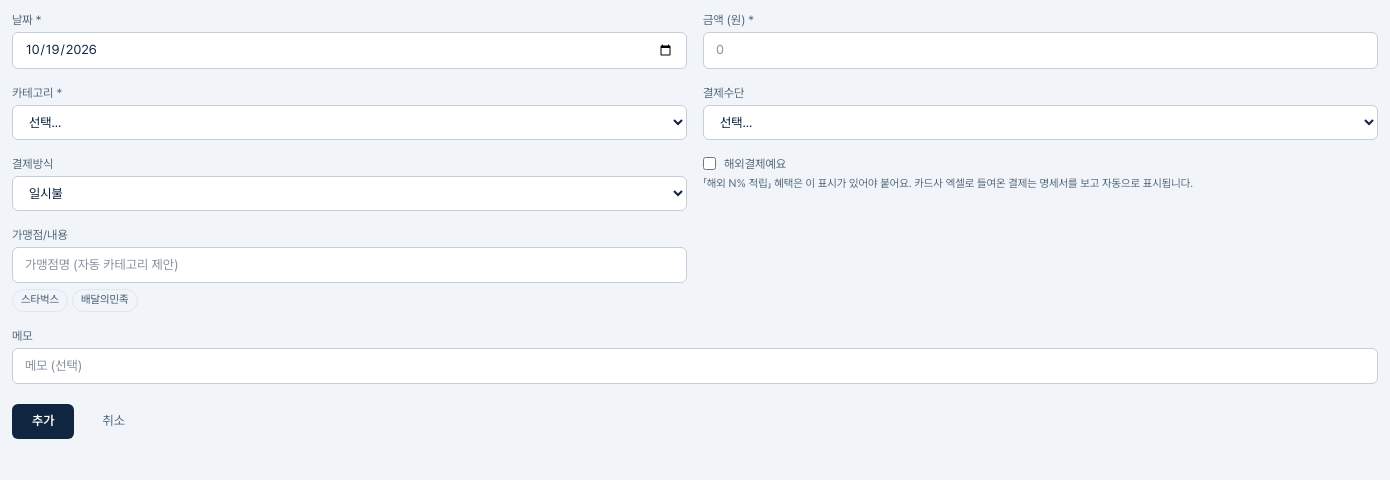
TransactionForm Suggest Tests › B. 칩 클릭 › B-1. 칩 클릭 | 가맹점 입력값이 스타벅스 가 된다
Click the button "스타벅스" at [40, 300], box [12,289,68,312]
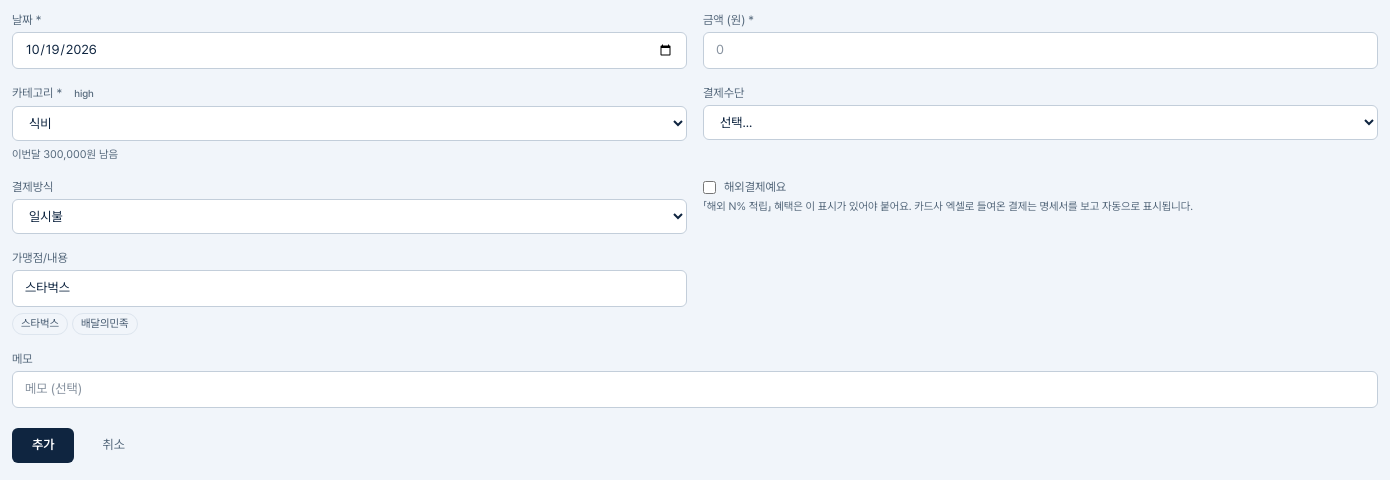
Expected: the field labelled "가맹점/내용" holds "스타벅스", [12,270,687,307]
